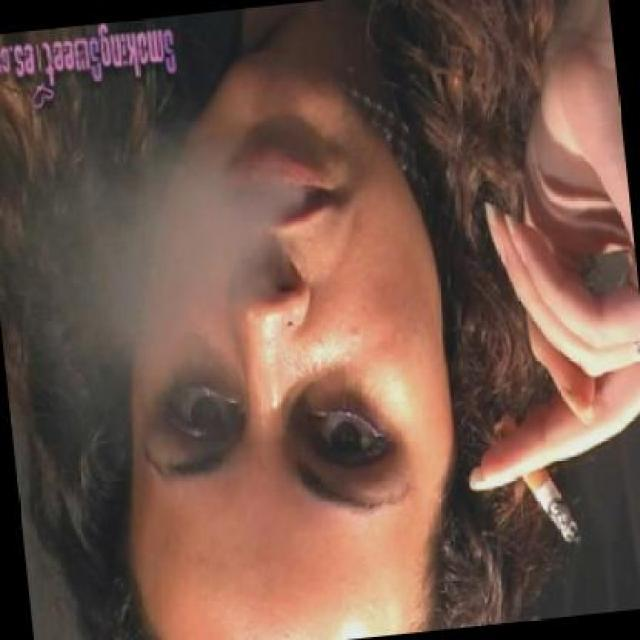smoke: (489, 401, 582, 554)
